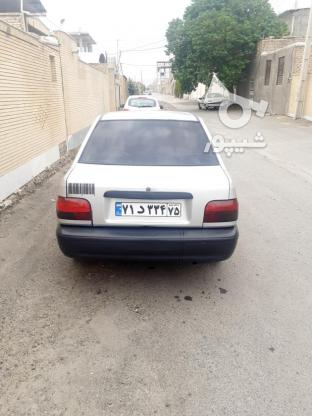car: (116, 203, 179, 218)
